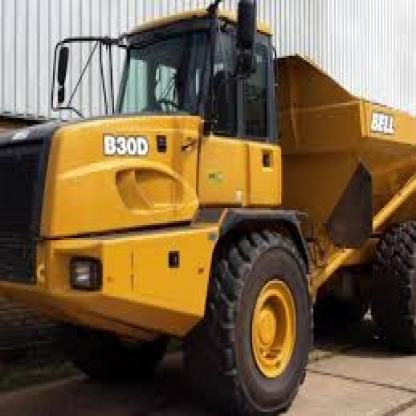dump_truck: (14, 8, 414, 399)
